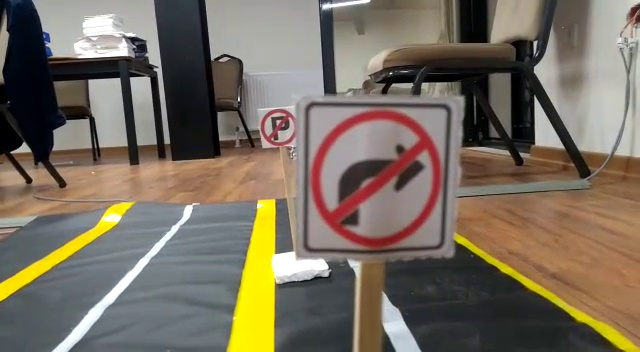park_yapilmaz: (255, 106, 299, 147)
saga_donulmez: (304, 103, 448, 252)
